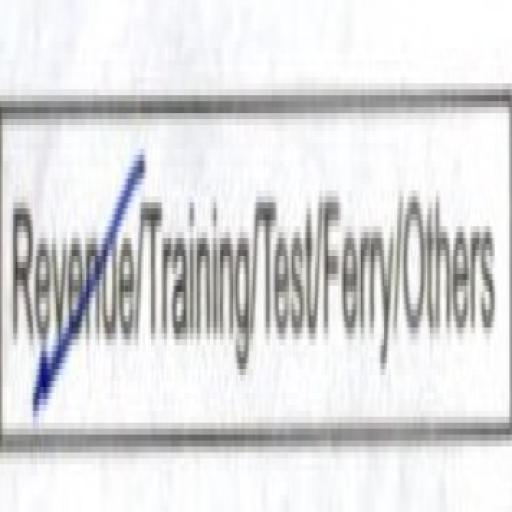check: (9, 84, 132, 472)
